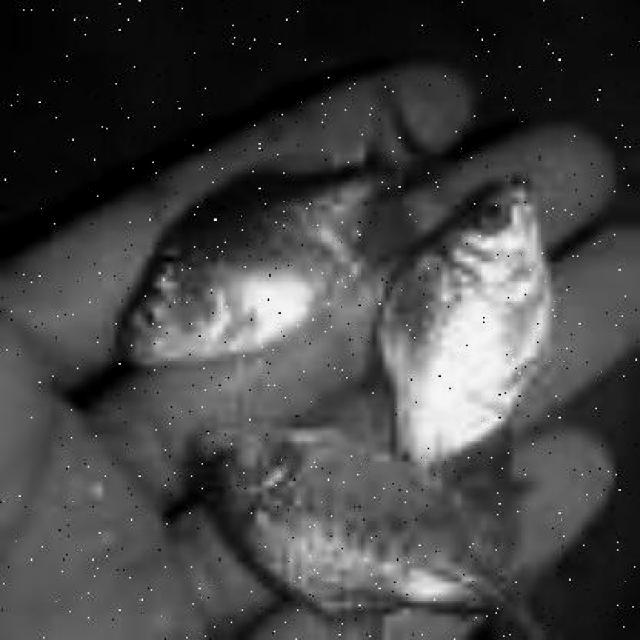ikan-pacu: (205, 409, 524, 622), (121, 148, 381, 369), (390, 160, 561, 462)
